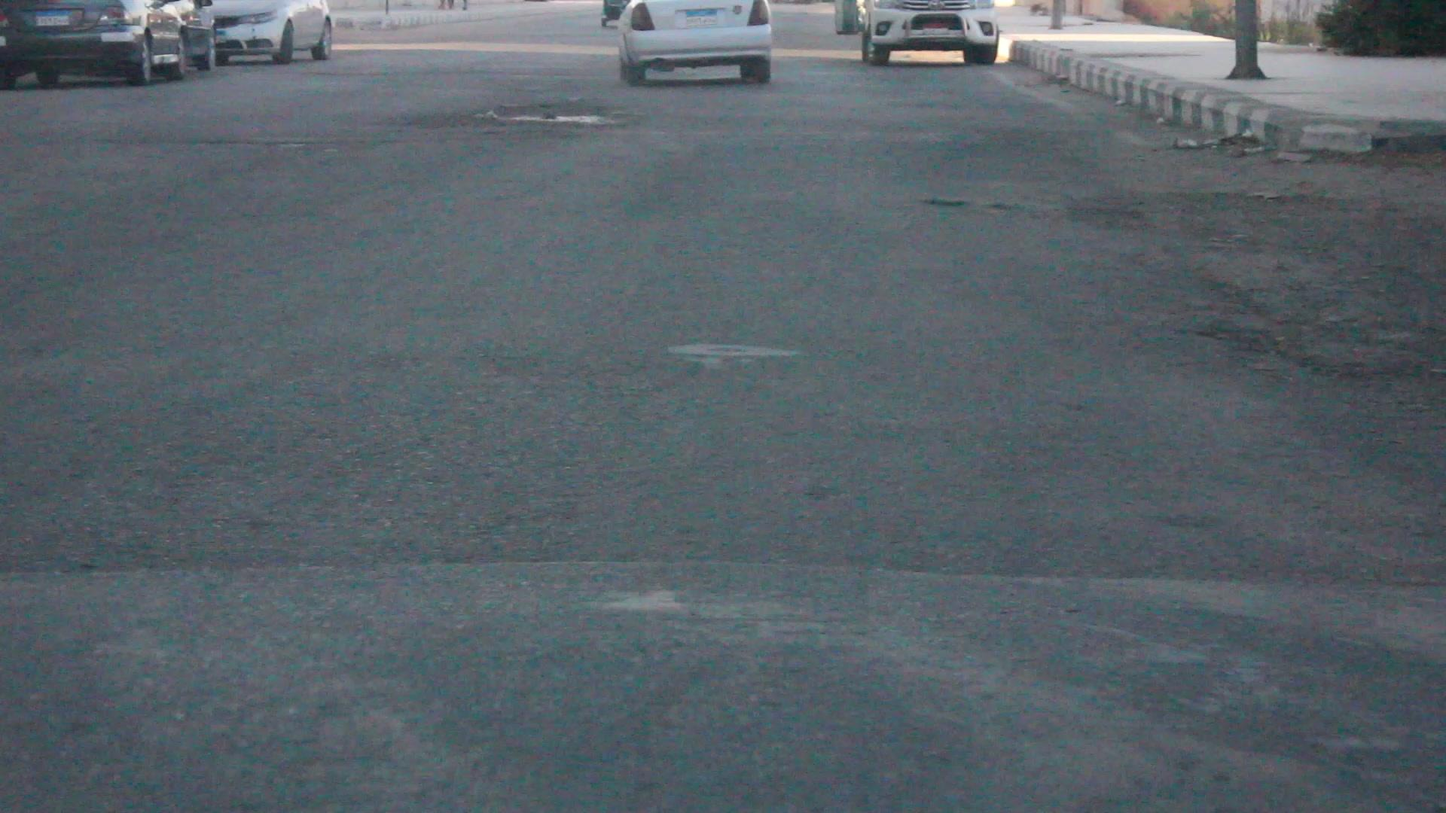Bump: (0, 578, 1445, 811)
